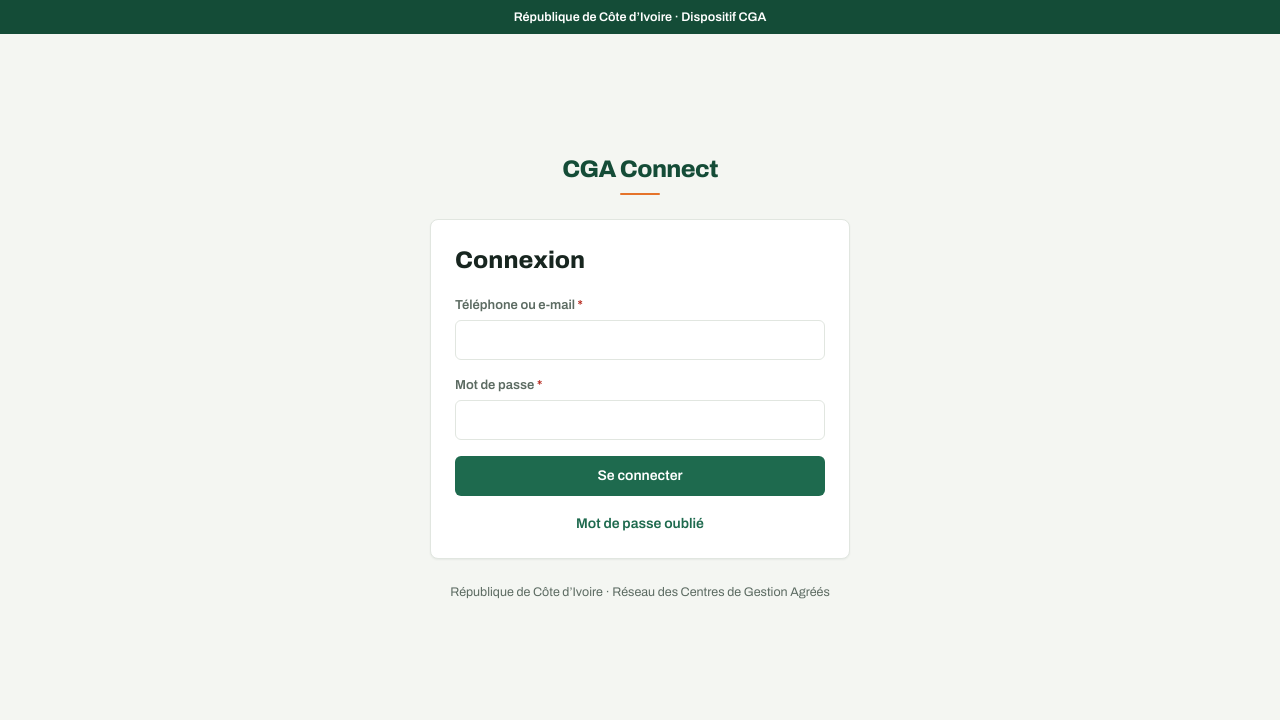
Test: Page de connexion (F-AUTH-01, 03-APPFLOW §2) › F-AUTH-01 · n’appelle pas l’API quand un champ manque et montre l’erreur sous le champ
The width and height of the screenshot is (1280, 720).
Click the button "Se connecter" at (640, 476), box [455,456,825,496]
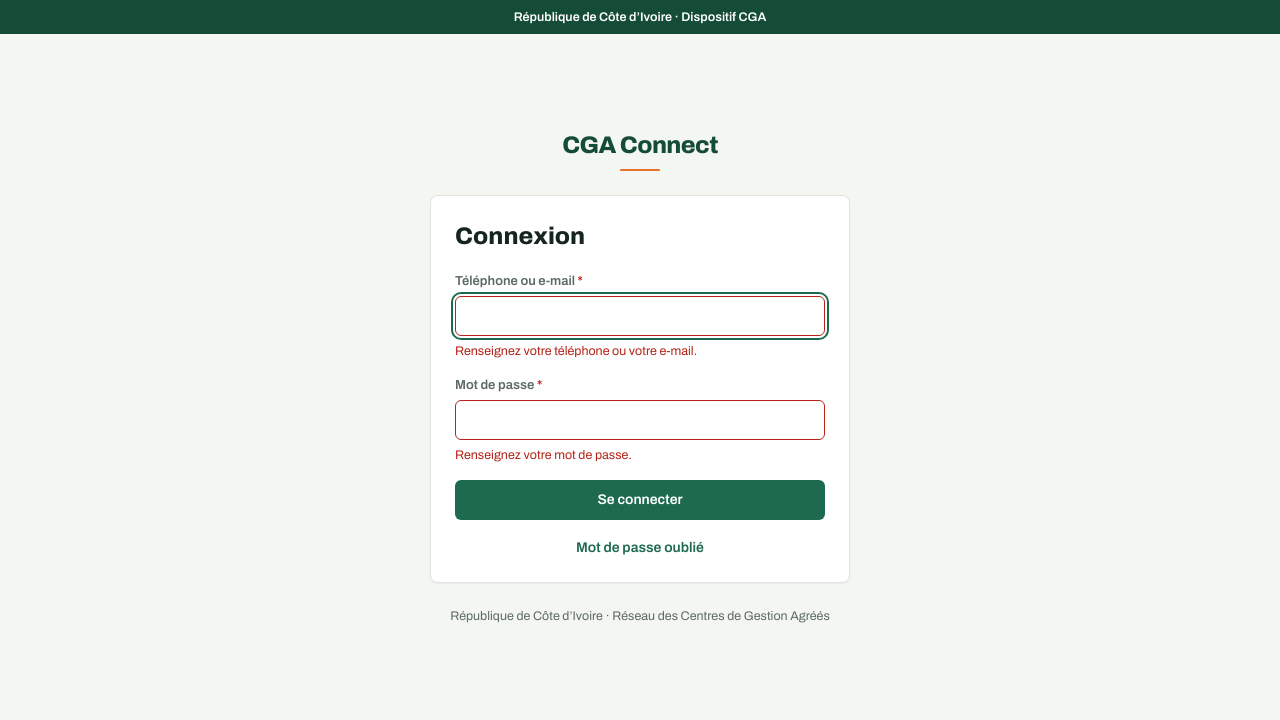
Check: the text "Renseignez votre téléphone ou votre e-mail." is shown, box [455,344,697,358]
Check: the text "Renseignez votre mot de passe." is shown, box [455,448,632,462]
